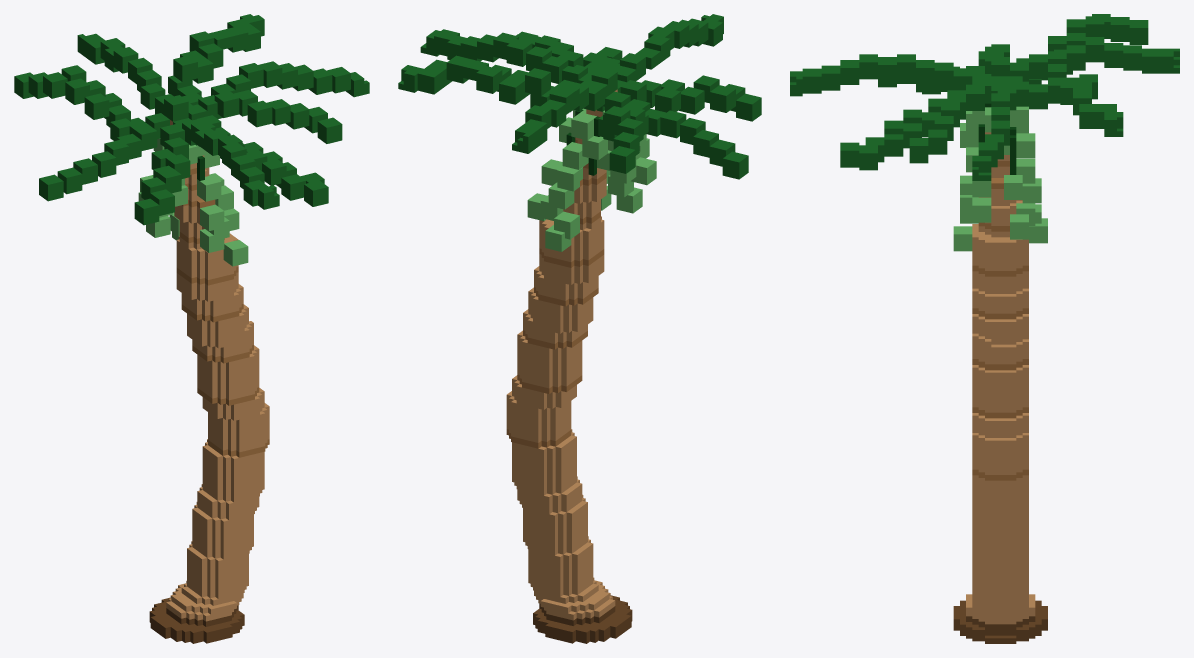
The model's file is 2_1 coco.obj.
3 renders of one model, left to right at view 1: azimuth 30°, elevation 25°; view 2: azimuth 150°, elevation 25°; view 3: azimuth 270°, elevation 25°, orthographic. The views are drawn at different scales.
Bounding box in the file's own units: 6 × 10 × 6.2.
1 material, 1 textured.
